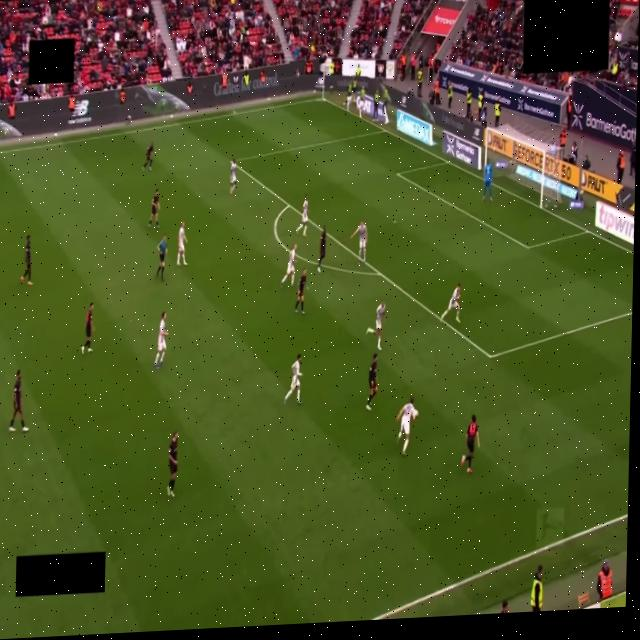ball: (412, 410, 418, 419)
player: (396, 397, 417, 456), (9, 370, 28, 432), (461, 415, 479, 473), (367, 302, 385, 350), (285, 354, 301, 404), (441, 283, 461, 323), (167, 431, 178, 497), (351, 221, 367, 264), (81, 302, 94, 354), (155, 312, 167, 368), (280, 245, 296, 287), (366, 354, 377, 411), (21, 235, 32, 285), (295, 270, 306, 314), (297, 194, 308, 236), (177, 222, 187, 266), (149, 190, 159, 229), (483, 162, 493, 200), (318, 226, 326, 272), (142, 143, 154, 170), (230, 160, 236, 195)
referee: (157, 235, 166, 281)
